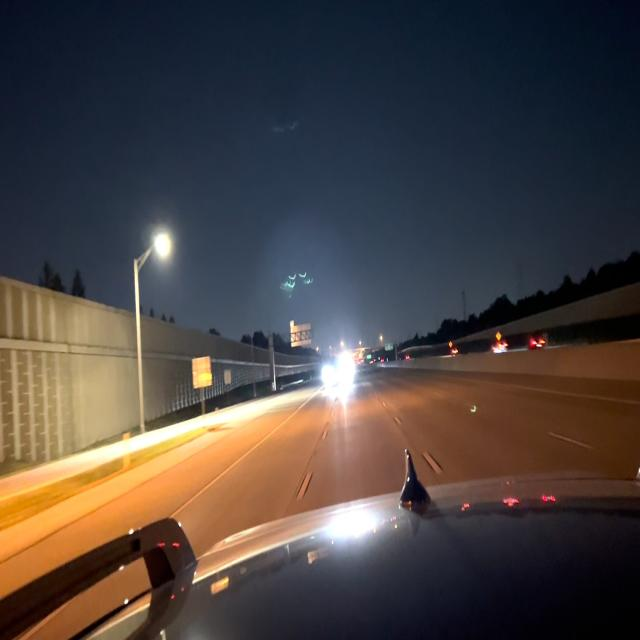back-of-sign: (192, 358, 212, 388), (224, 370, 231, 384)
